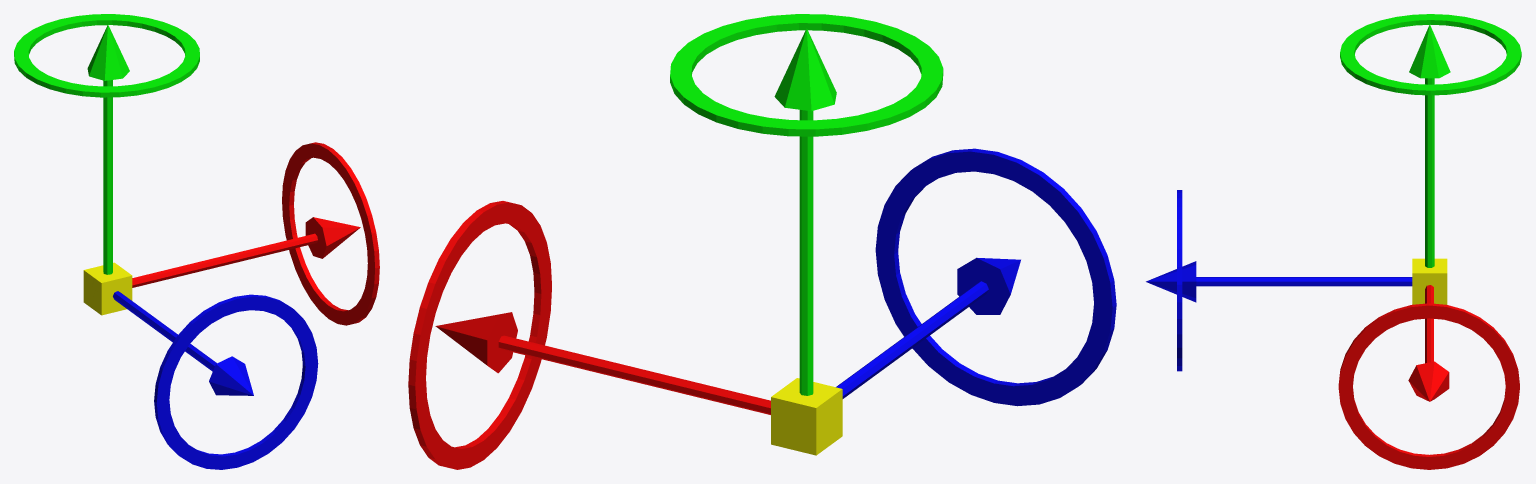
The model's file is ManipulationTool.obj.
3 renders of one model, left to right at view 1: azimuth 30°, elevation 25°; view 2: azimuth 150°, elevation 25°; view 3: azimuth 270°, elevation 25°, orthographic. The views are drawn at different scales.
Parts seen in each view (by area): view 1: Cube; view 2: Cube; view 3: Cube.
Boxes of the visible parts, x1,y1,x2,y2 form: Cube: [14, 14, 379, 469]; Cube: [408, 14, 1116, 469]; Cube: [1146, 14, 1521, 469].
Size of the model in its own units: 1.77 by 1.76 by 1.77.
